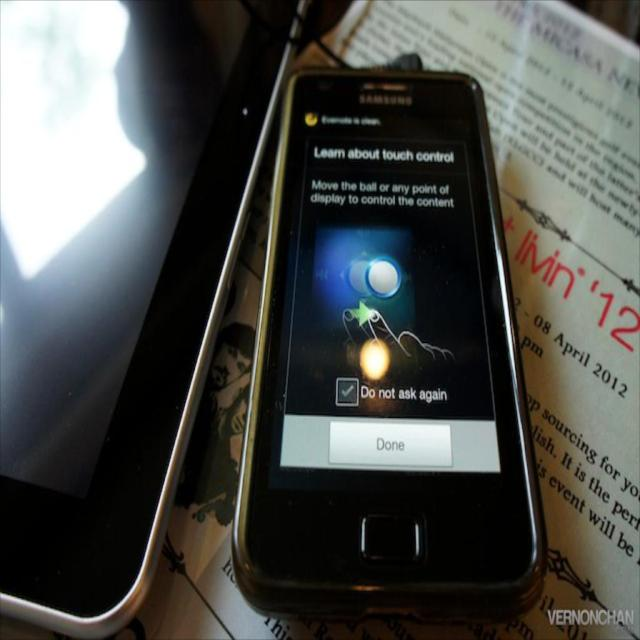Mobile-phone: (193, 45, 561, 637), (0, 0, 309, 639)
